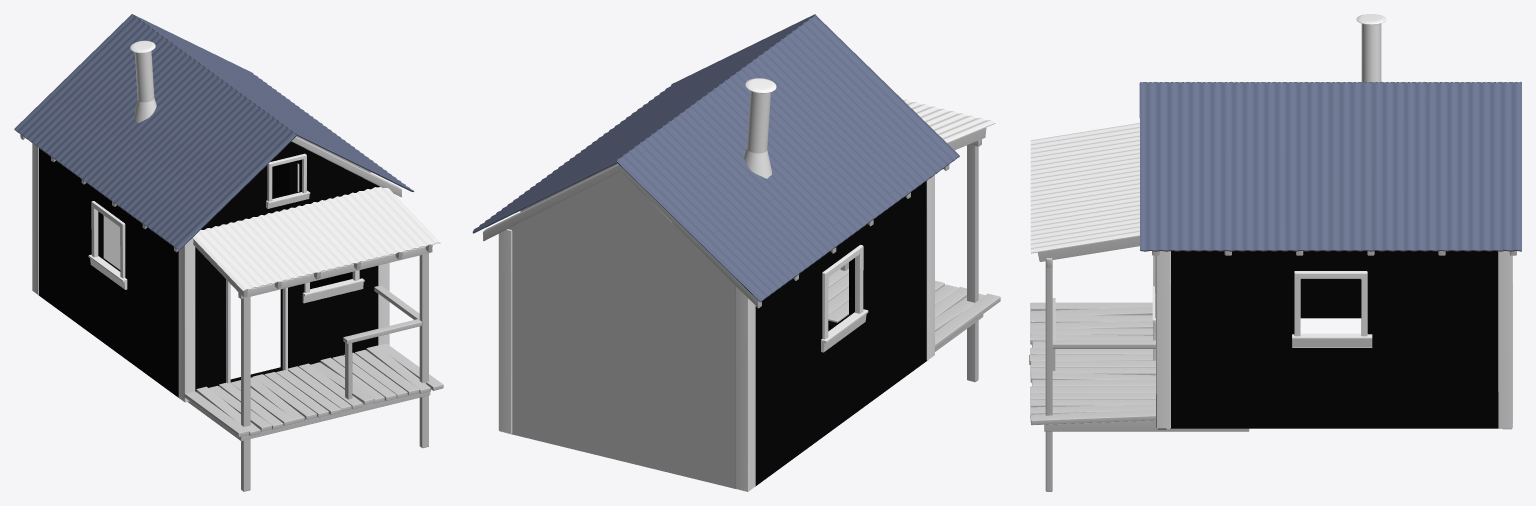
Rendered from Building_UnwrappedBlockout.fbx.
The picture shows the model from 3 angles, left to right: view 1: azimuth 30°, elevation 25°; view 2: azimuth 150°, elevation 25°; view 3: azimuth 270°, elevation 25°; orthographic projection. The views are drawn at different scales.
Parts seen in each view (by area): view 1: Building_Unwrapped; view 2: Building_Unwrapped; view 3: Building_Unwrapped.
Boxes of the visible parts, x1=… form: Building_Unwrapped: x1=14, y1=14, x2=443, y2=491; Building_Unwrapped: x1=472, y1=14, x2=1000, y2=491; Building_Unwrapped: x1=1029, y1=14, x2=1521, y2=491.
Bounding box in the file's own units: 395 × 535 × 610.
